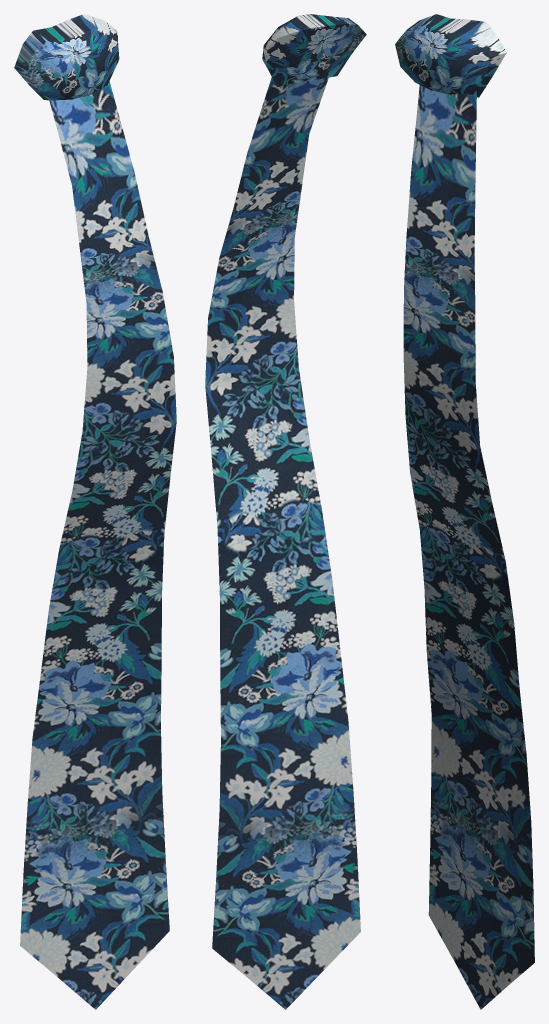
The model's file is Pose-7_Tie-2.fbx.
3 renders of one model, left to right at view 1: azimuth 30°, elevation 25°; view 2: azimuth 210°, elevation 25°; view 3: azimuth 330°, elevation 25°, orthographic.
Visible parts, largest first — view 1: Pose-7_Tie-2; view 2: Pose-7_Tie-2; view 3: Pose-7_Tie-2.
Boxes of the visible parts, box(x1,y1,x2,y2) form: Pose-7_Tie-2: box(14, 14, 176, 1009); Pose-7_Tie-2: box(205, 14, 366, 1009); Pose-7_Tie-2: box(395, 14, 534, 1009).
Size of the model in its own units: 7.64 by 49.57 by 4.84.
